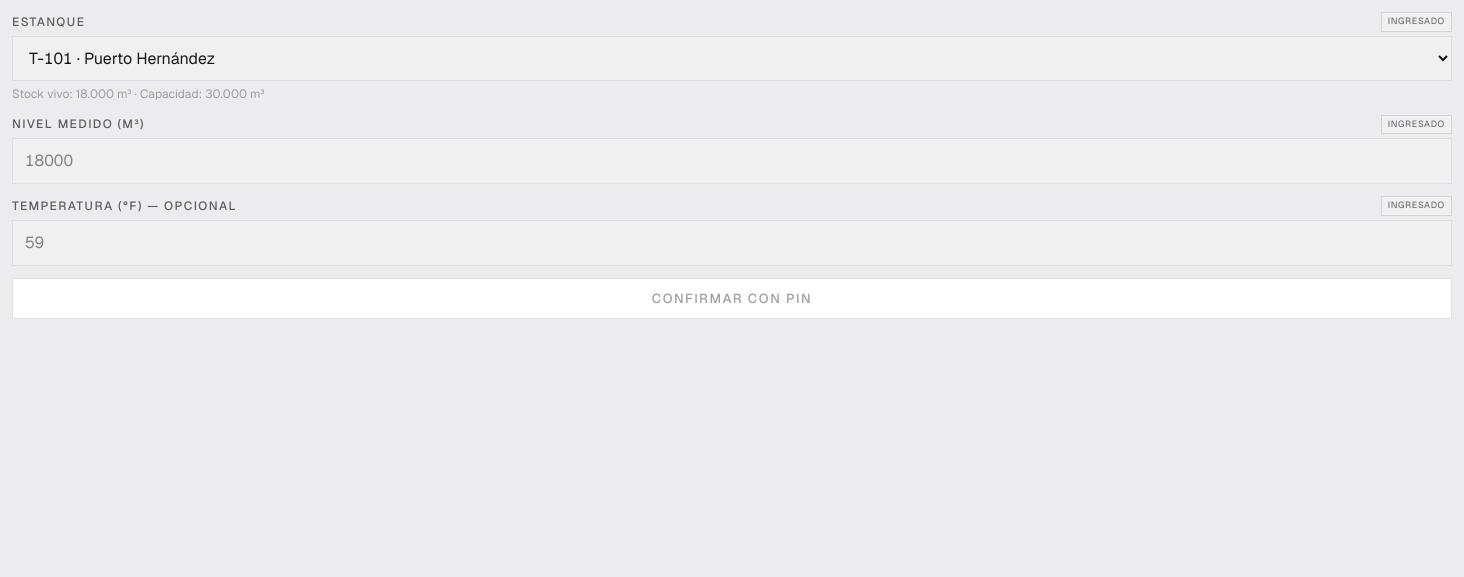
Test: TankReadingForm › soft-warns an unusual level (beyond tolerance) but keeps confirm enabled
Book level is 18 000 m³ — 25 000 differs ~38.9% (warn, not block)
Type "25000" into the field labelled "Nivel medido (m³)" at (732,161), box [12,138,1452,184]
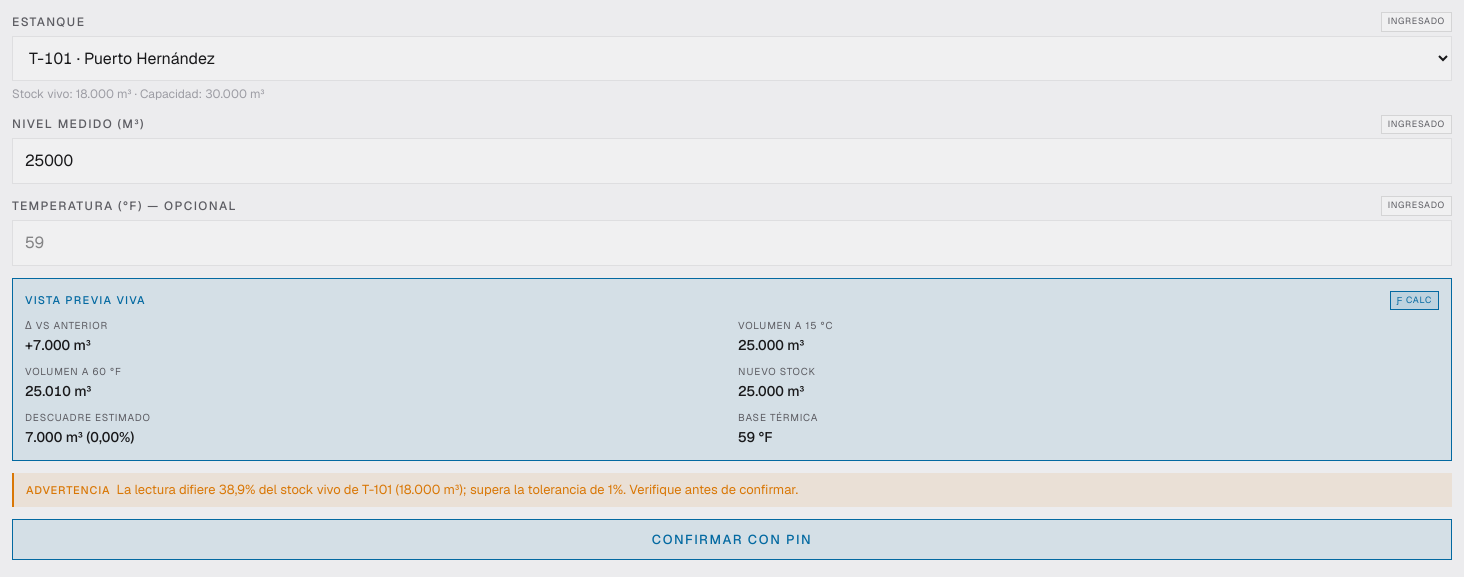
Result: the text "supera la tolerancia" is shown at [116,481,798,498]
Result: the button "Confirmar con PIN" is enabled at [12,519,1452,560]
